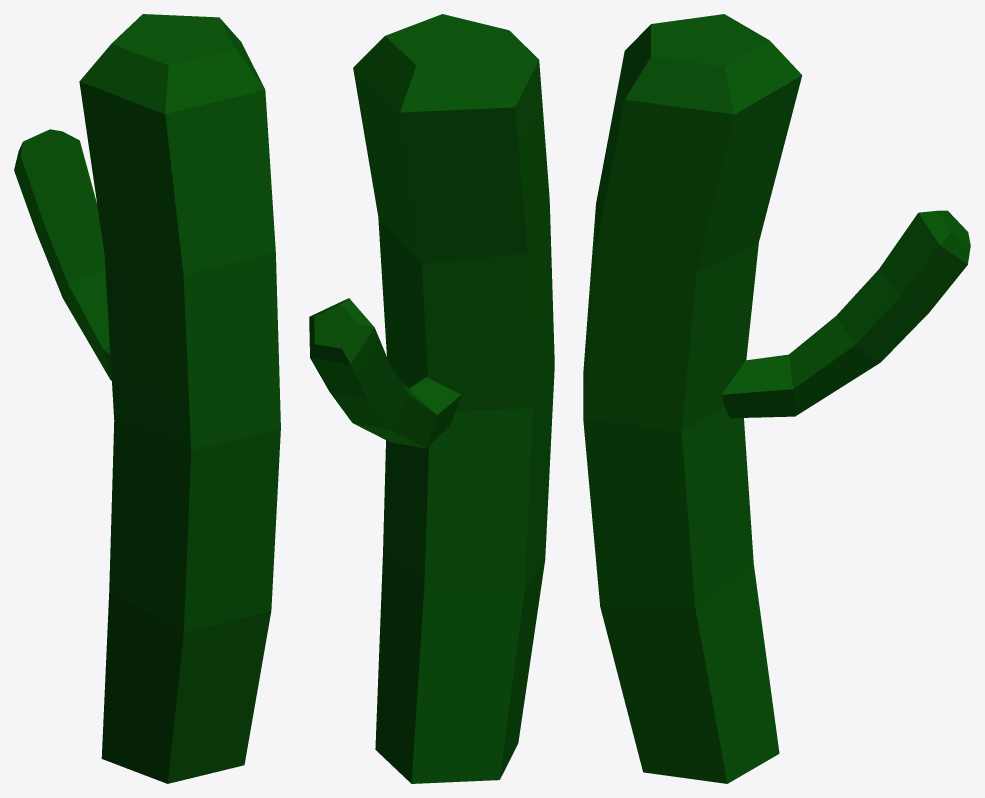
The model's file is cact3color.fbx.
3 renders of one model, left to right at view 1: azimuth 30°, elevation 25°; view 2: azimuth 150°, elevation 25°; view 3: azimuth 270°, elevation 25°, orthographic.
Parts seen in each view (by area): view 1: Cylinder, Cylinder.002; view 2: Cylinder, Cylinder.002; view 3: Cylinder, Cylinder.002.
Boxes of the visible parts, box(x1,y1,x2,y2) form: Cylinder: box(79, 14, 280, 783); Cylinder.002: box(14, 129, 111, 380); Cylinder: box(353, 14, 554, 783); Cylinder.002: box(309, 298, 461, 448); Cylinder: box(583, 14, 802, 783); Cylinder.002: box(722, 210, 970, 418).
Bounding box in the file's own units: 190 × 802 × 395.
